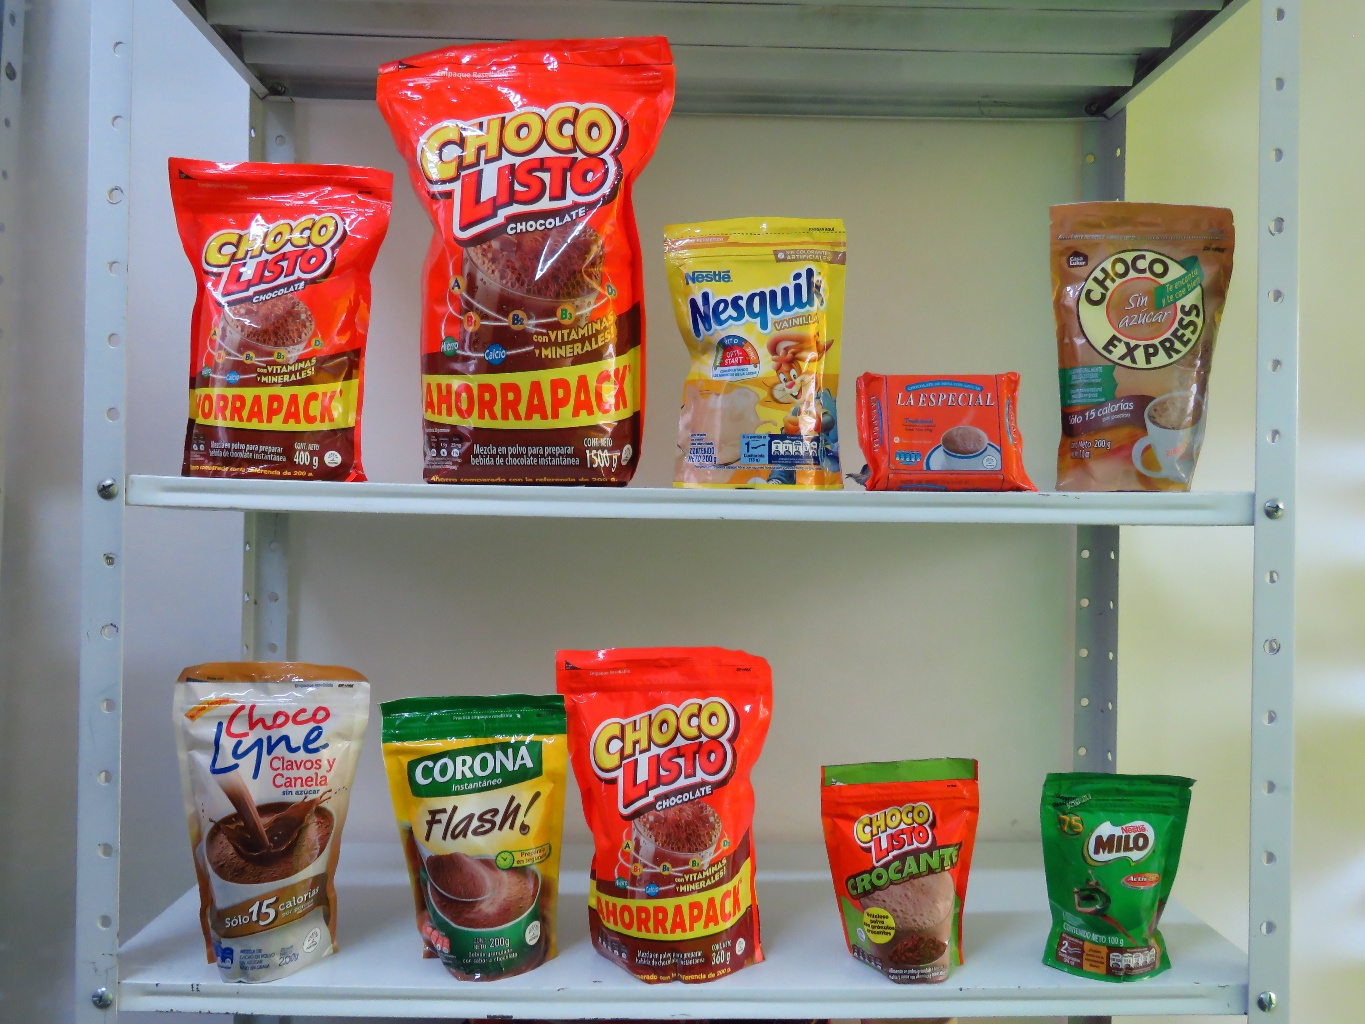COL0170102DYP10000: (822, 760, 978, 984)
COL0170103DYP1,500: (373, 34, 673, 493)
COL0170103DYP36000: (553, 644, 778, 987)
COL0170103DYP40000: (163, 153, 386, 483)
COL0170203DYP10000: (1039, 770, 1198, 982)
COL0170306DYP20000: (657, 219, 850, 490)
